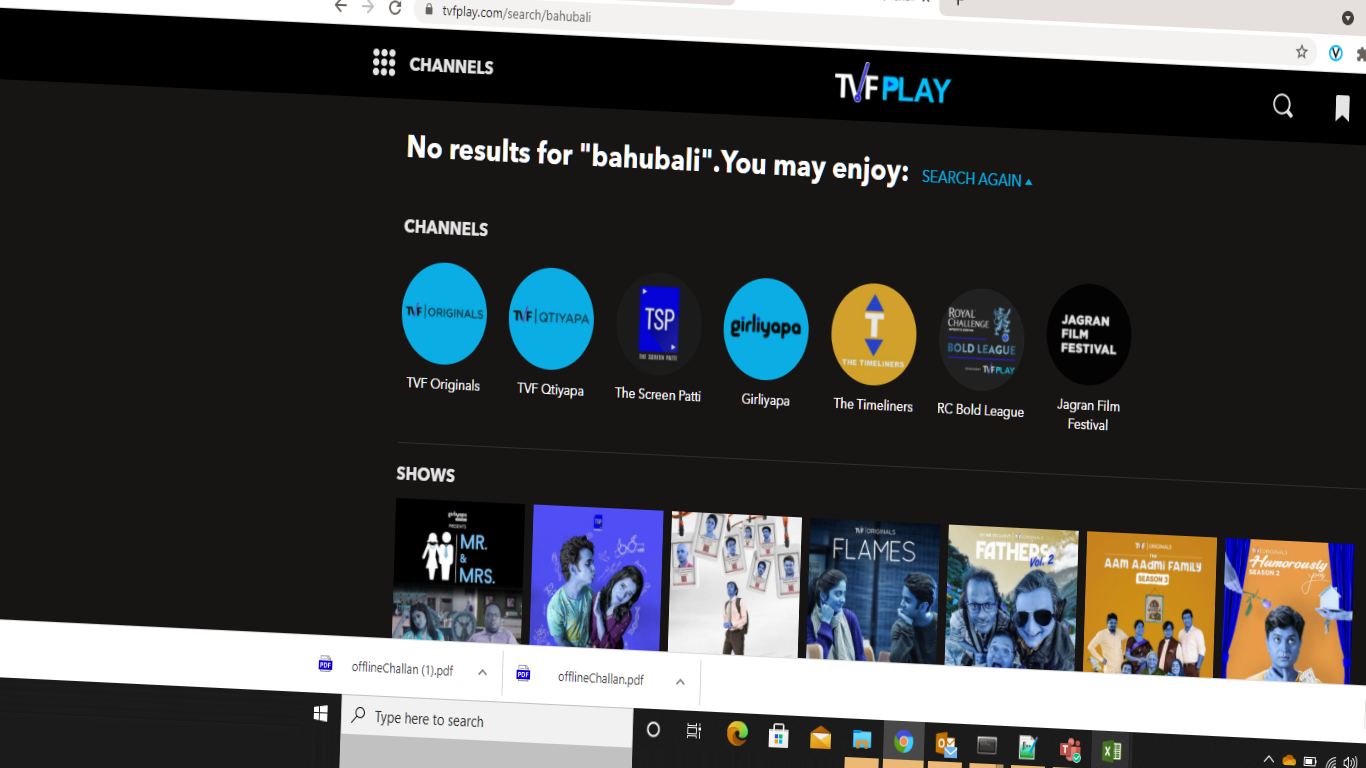noresultsfound: (394, 122, 1038, 216)
searchicon: (1270, 81, 1298, 129)
